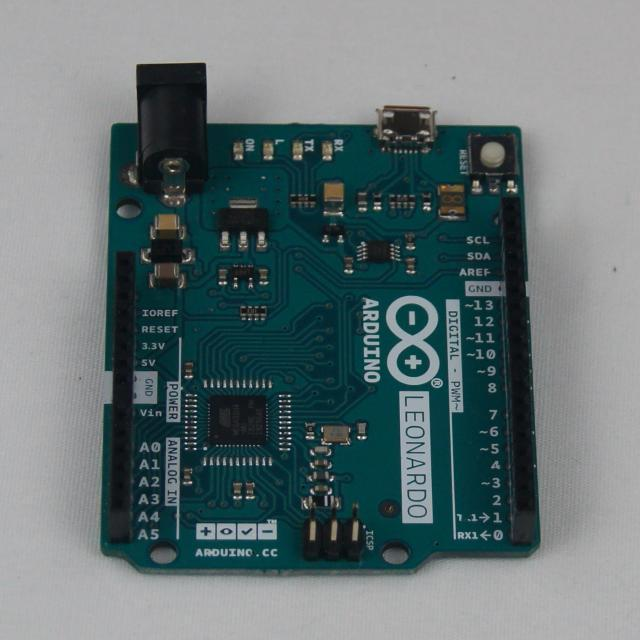Arduino-leonardo: (103, 64, 540, 573)
